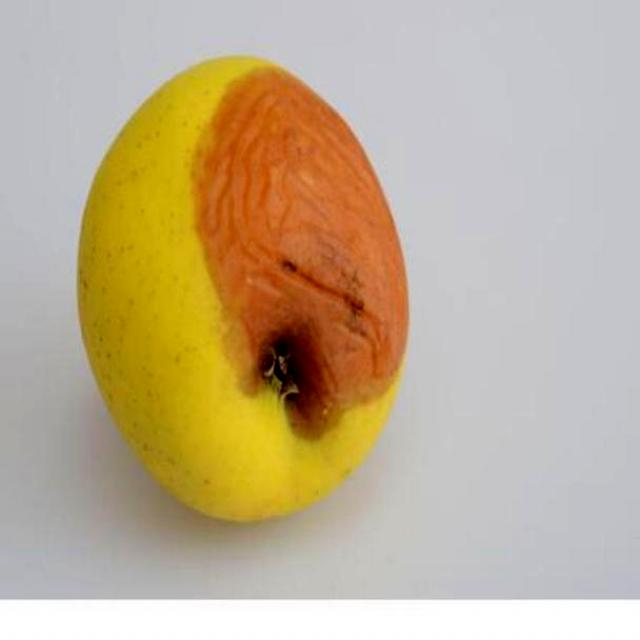ROT: (64, 52, 442, 572)
